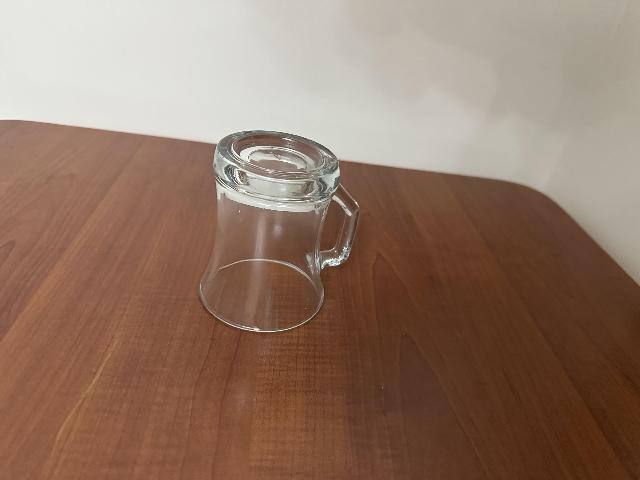Cam: (197, 123, 360, 340)
